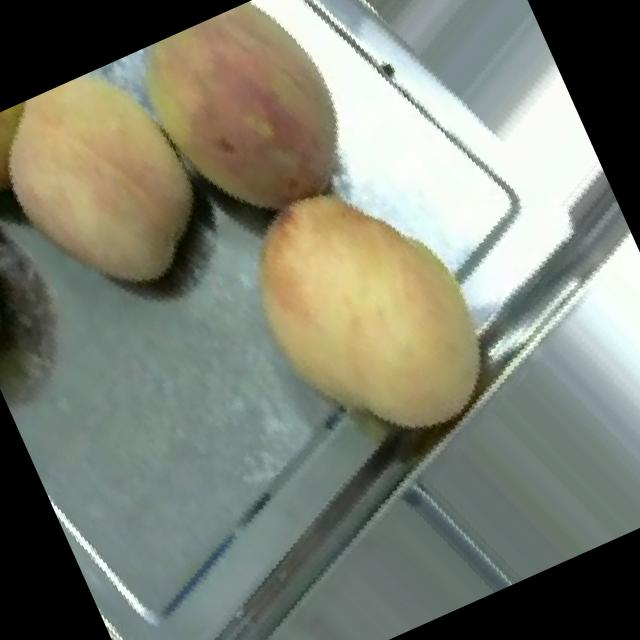Fruit: (186, 121, 557, 514), (128, 0, 407, 263), (0, 50, 238, 352), (0, 128, 68, 389)
